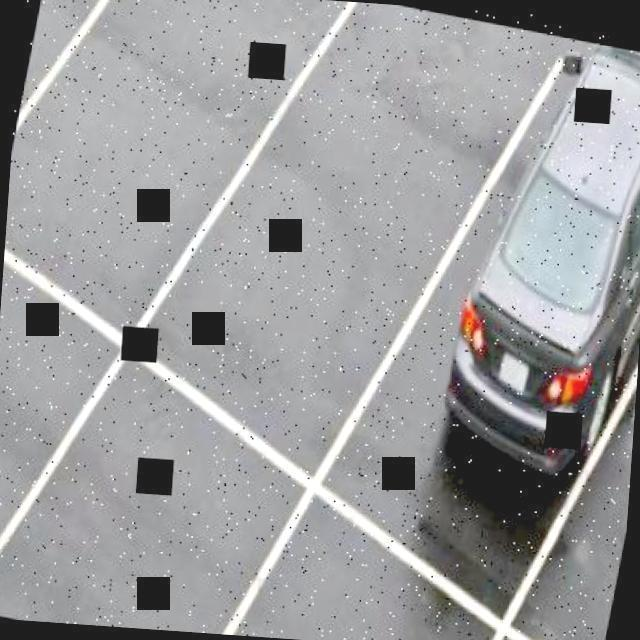space-empty: (250, 38, 465, 371), (39, 0, 245, 325), (53, 490, 216, 633), (290, 540, 465, 640), (20, 0, 68, 113), (0, 328, 18, 550)
space-occupied: (462, 33, 640, 460)
